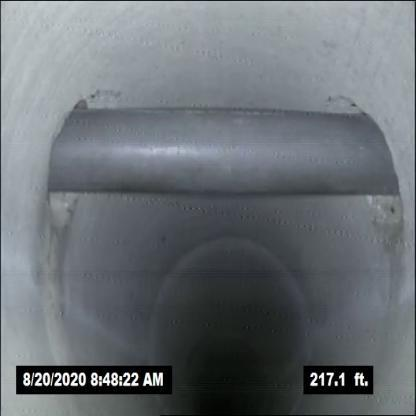utits: (28, 48, 408, 242)
